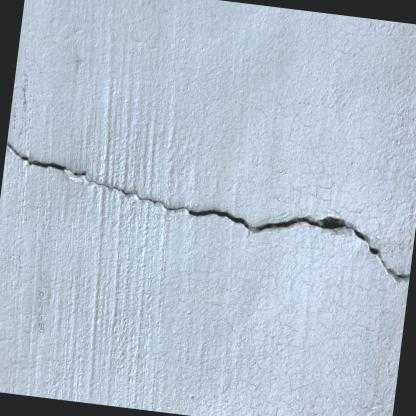crack: (6, 142, 410, 280)
